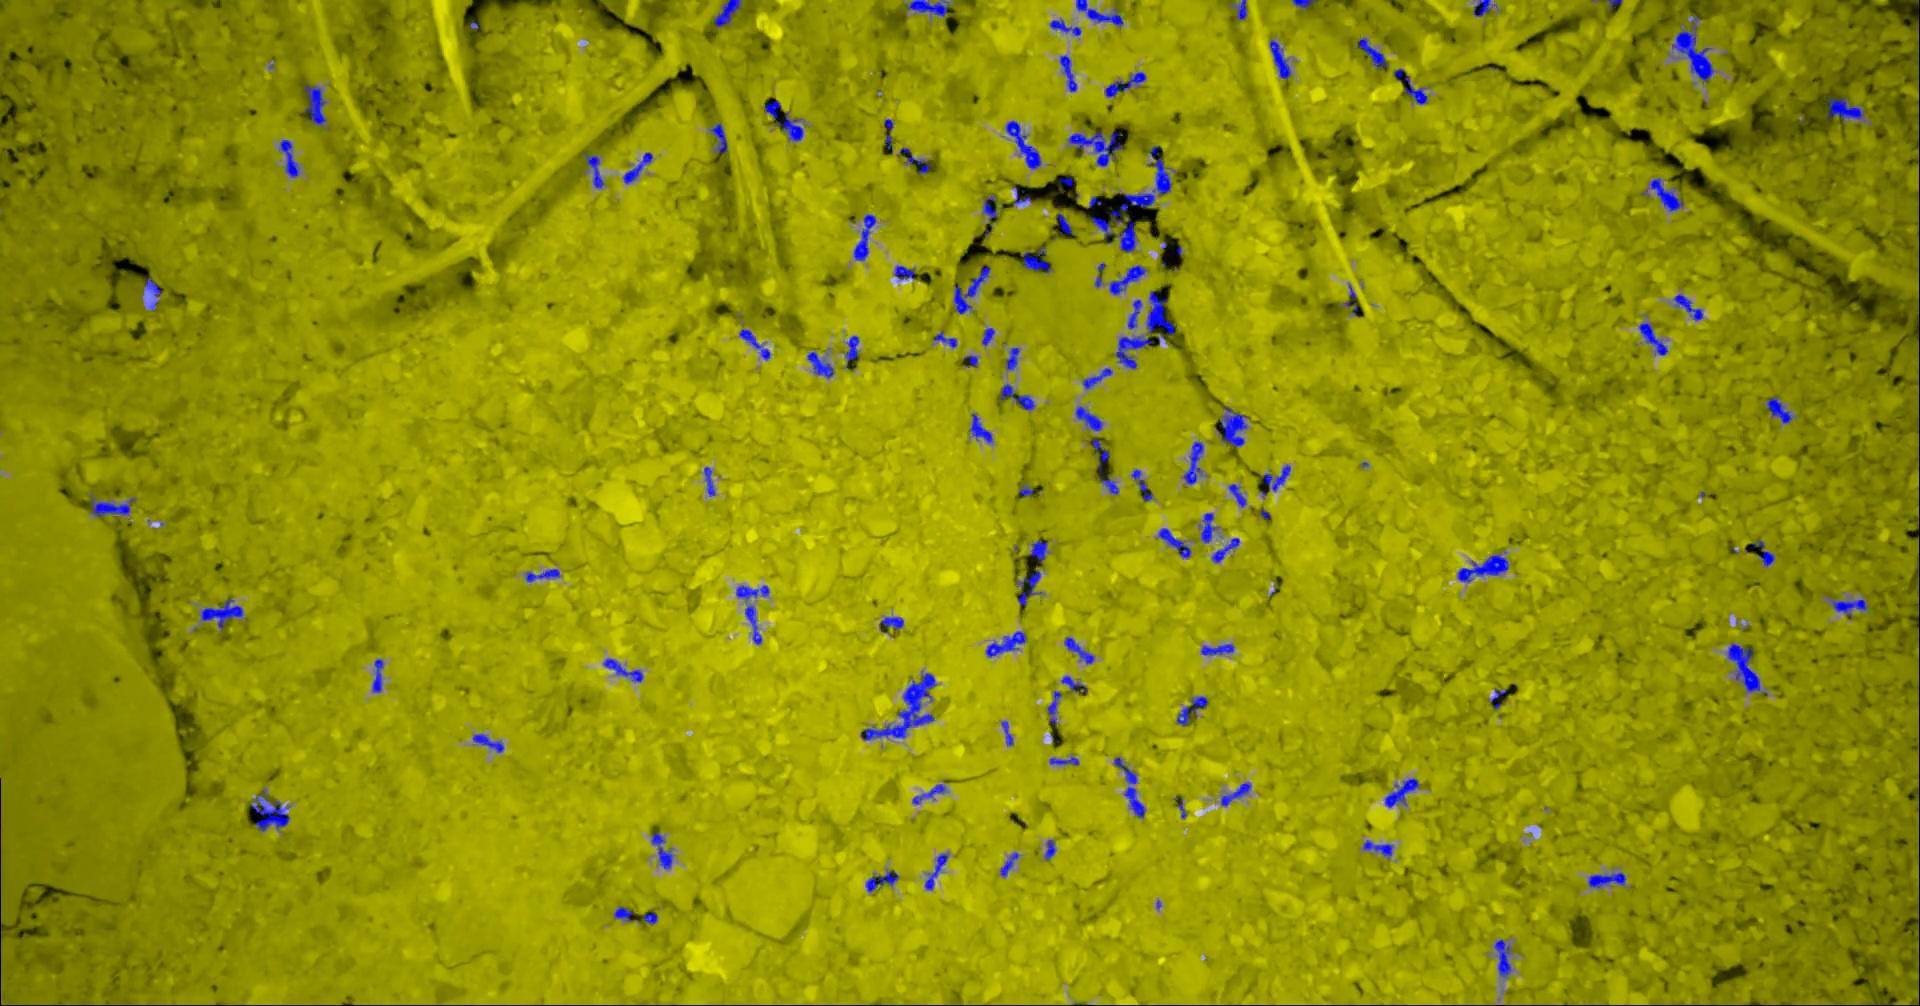ant: (1109, 145, 1171, 224), (1671, 15, 1713, 81), (1068, 131, 1123, 166), (1112, 757, 1144, 817), (952, 265, 990, 312), (1004, 119, 1040, 168), (250, 788, 290, 831), (764, 99, 803, 140), (1727, 643, 1759, 691), (1091, 438, 1117, 494), (1457, 554, 1509, 582), (1145, 290, 1175, 334), (201, 598, 243, 629), (1215, 406, 1246, 447), (1393, 69, 1427, 104), (1076, 0, 1123, 25), (1115, 337, 1152, 368), (1650, 177, 1683, 211), (1109, 264, 1145, 293), (1103, 71, 1145, 97), (853, 213, 875, 260), (1825, 97, 1864, 122), (985, 631, 1025, 657), (1015, 569, 1041, 606), (738, 329, 770, 359), (1158, 527, 1190, 558), (1638, 321, 1667, 354), (1384, 779, 1418, 807), (303, 84, 326, 124), (1357, 37, 1387, 69), (1176, 696, 1208, 725), (603, 658, 643, 681), (622, 152, 651, 183), (91, 495, 135, 516), (999, 384, 1034, 409), (1269, 39, 1290, 79), (1063, 636, 1095, 663), (1183, 441, 1203, 484), (899, 147, 930, 174), (924, 854, 947, 889), (712, 0, 742, 27), (1672, 293, 1702, 320), (651, 831, 672, 868), (1022, 245, 1050, 272), (1766, 396, 1794, 423), (1263, 464, 1290, 492), (910, 782, 945, 804), (1220, 782, 1251, 807), (279, 138, 298, 177), (583, 152, 603, 188), (905, 0, 949, 17), (1116, 215, 1135, 251), (808, 351, 833, 377), (1074, 406, 1102, 431), (1211, 537, 1239, 561), (1131, 467, 1152, 500), (865, 870, 898, 890), (969, 413, 992, 442), (1082, 367, 1112, 389), (744, 605, 761, 644), (1090, 215, 1112, 243), (1751, 539, 1774, 567), (1495, 939, 1511, 977), (1059, 55, 1076, 91), (143, 277, 163, 309), (709, 122, 728, 152), (982, 196, 997, 234), (472, 733, 503, 752), (1831, 600, 1867, 615), (1587, 873, 1625, 887), (735, 584, 770, 600), (1363, 840, 1392, 857), (1049, 19, 1079, 36), (1200, 512, 1217, 542), (1062, 674, 1087, 694), (524, 568, 559, 582), (1343, 283, 1357, 316), (1048, 690, 1062, 723), (999, 852, 1018, 876), (1029, 540, 1048, 563), (1200, 643, 1234, 655), (371, 658, 383, 692), (1055, 213, 1074, 235), (1128, 298, 1142, 328), (932, 330, 956, 347), (1228, 483, 1244, 507), (879, 616, 903, 633), (1473, 0, 1495, 17), (883, 118, 893, 152), (844, 335, 858, 359), (1490, 688, 1506, 709), (703, 466, 715, 495), (1001, 720, 1013, 746), (893, 265, 916, 279), (1004, 347, 1018, 370), (613, 906, 632, 920), (982, 326, 994, 345), (1043, 840, 1055, 859), (1049, 756, 1078, 763), (1236, 0, 1246, 19), (1291, 0, 1316, 8), (1058, 177, 1072, 189), (963, 354, 977, 367), (641, 912, 657, 923), (1018, 485, 1032, 495)
